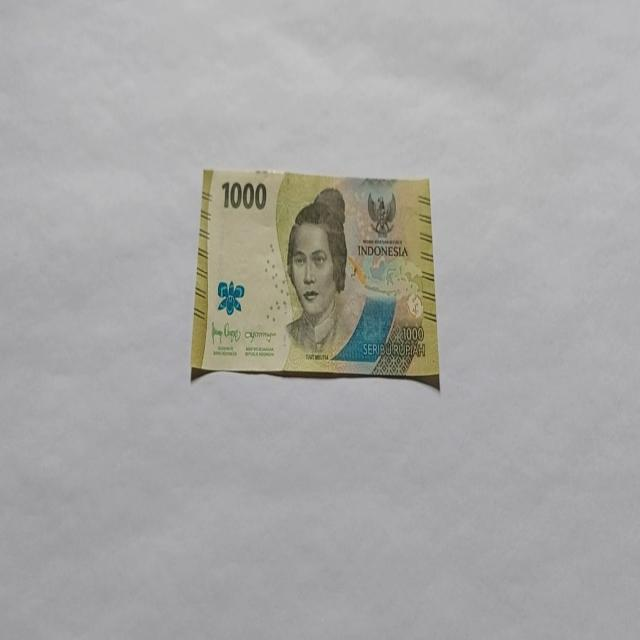seribu rupiah kertas: (190, 167, 440, 388)
